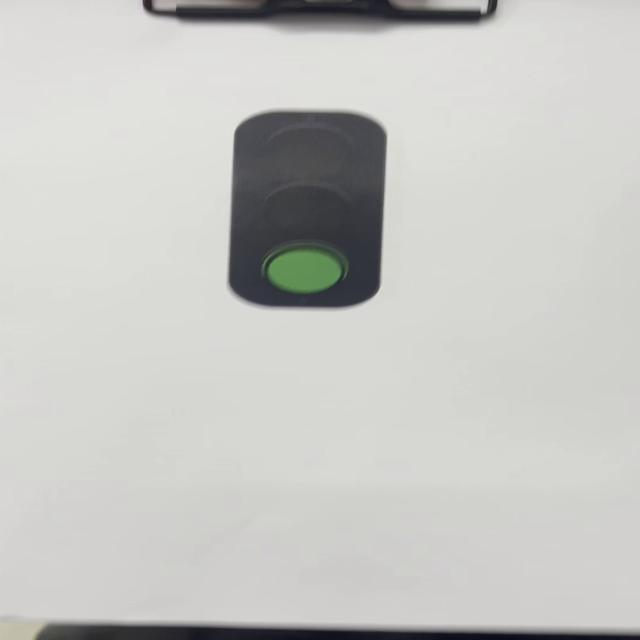green: (235, 114, 380, 307)
